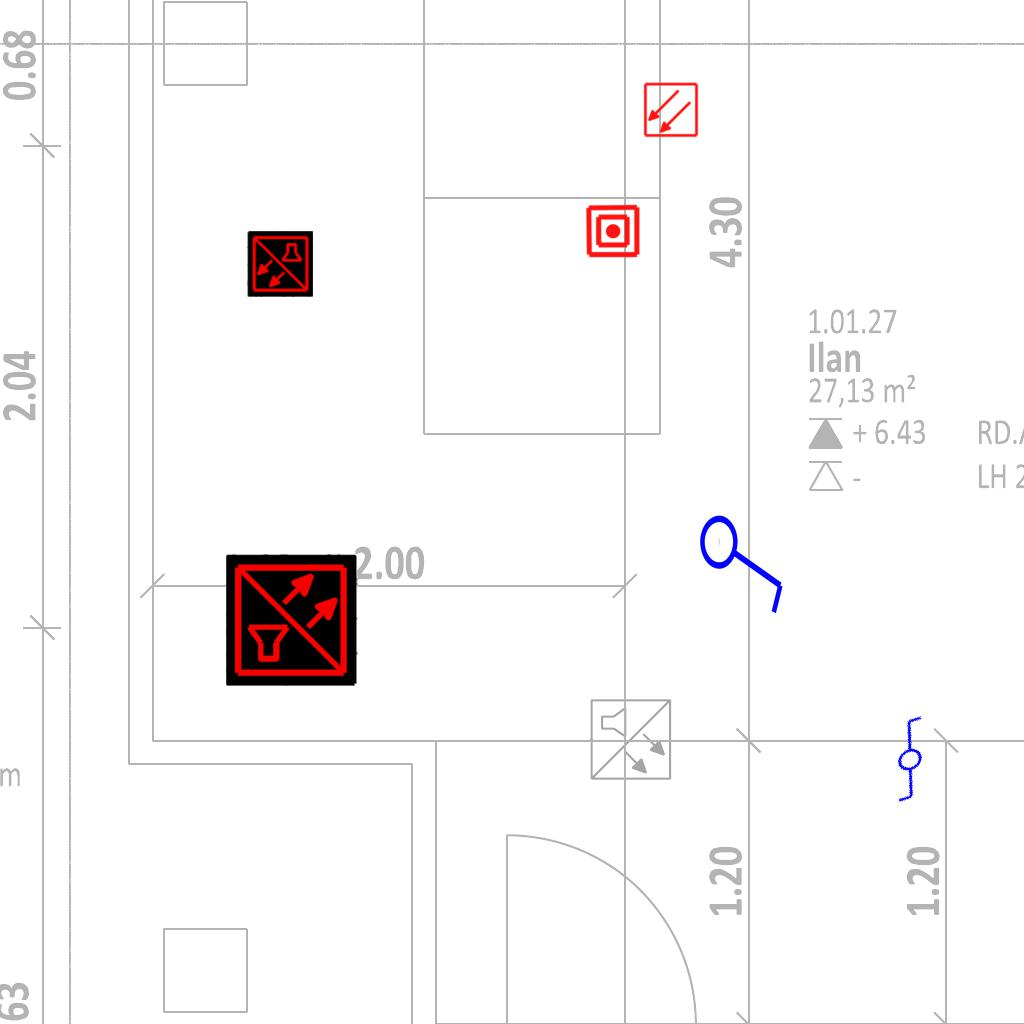Ausschalter: (697, 504, 793, 616)
NAM-Nichtautomatischer_Melder: (585, 203, 641, 259)
OKW_Multisensormelder_(Kombination_optischer_Rauch-Kahlenmonoxid_Waerme-Melder): (226, 554, 358, 686), (247, 231, 313, 297)
RMO_Rauchmelder_optischer: (643, 82, 699, 138)
Wechselschalter: (853, 709, 959, 813)
